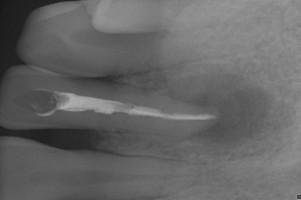Furcation Involvement: (165, 73, 276, 145)
